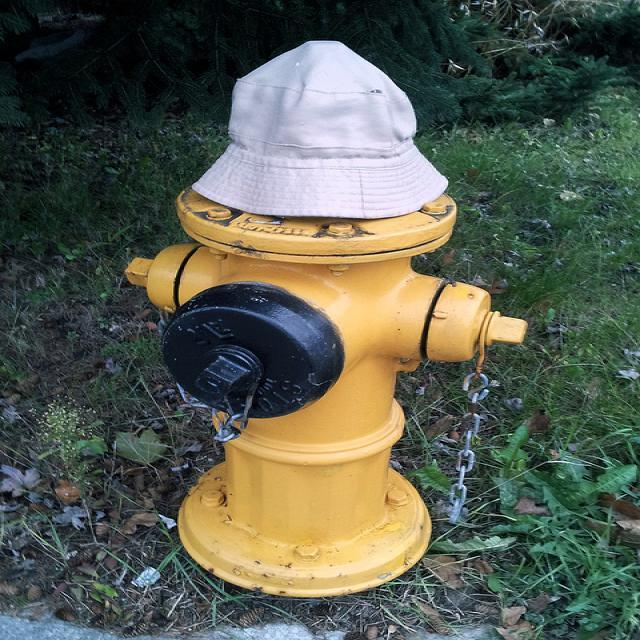fire_hydrant: (117, 37, 524, 601)
